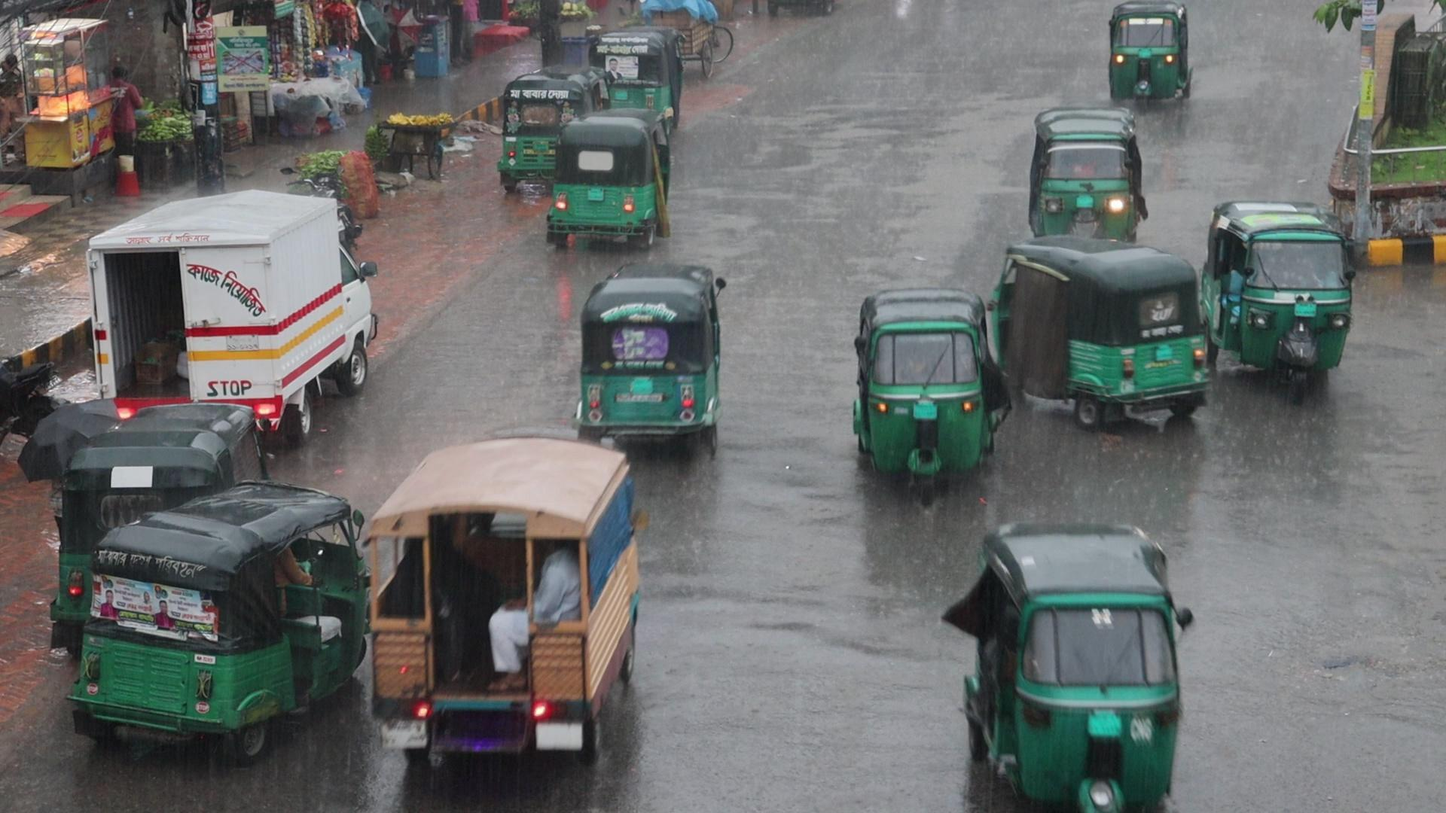Car: (569, 256, 728, 461)
Truck: (365, 424, 659, 778)
